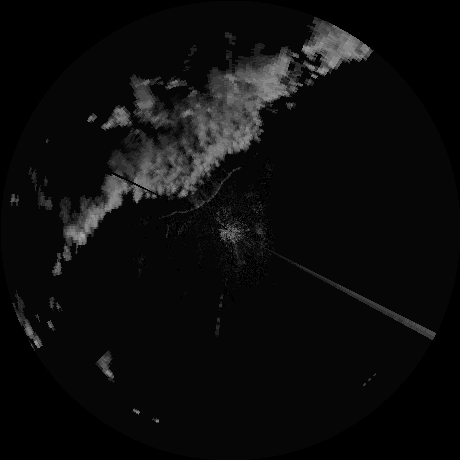frontgust: (168, 166, 240, 215)
